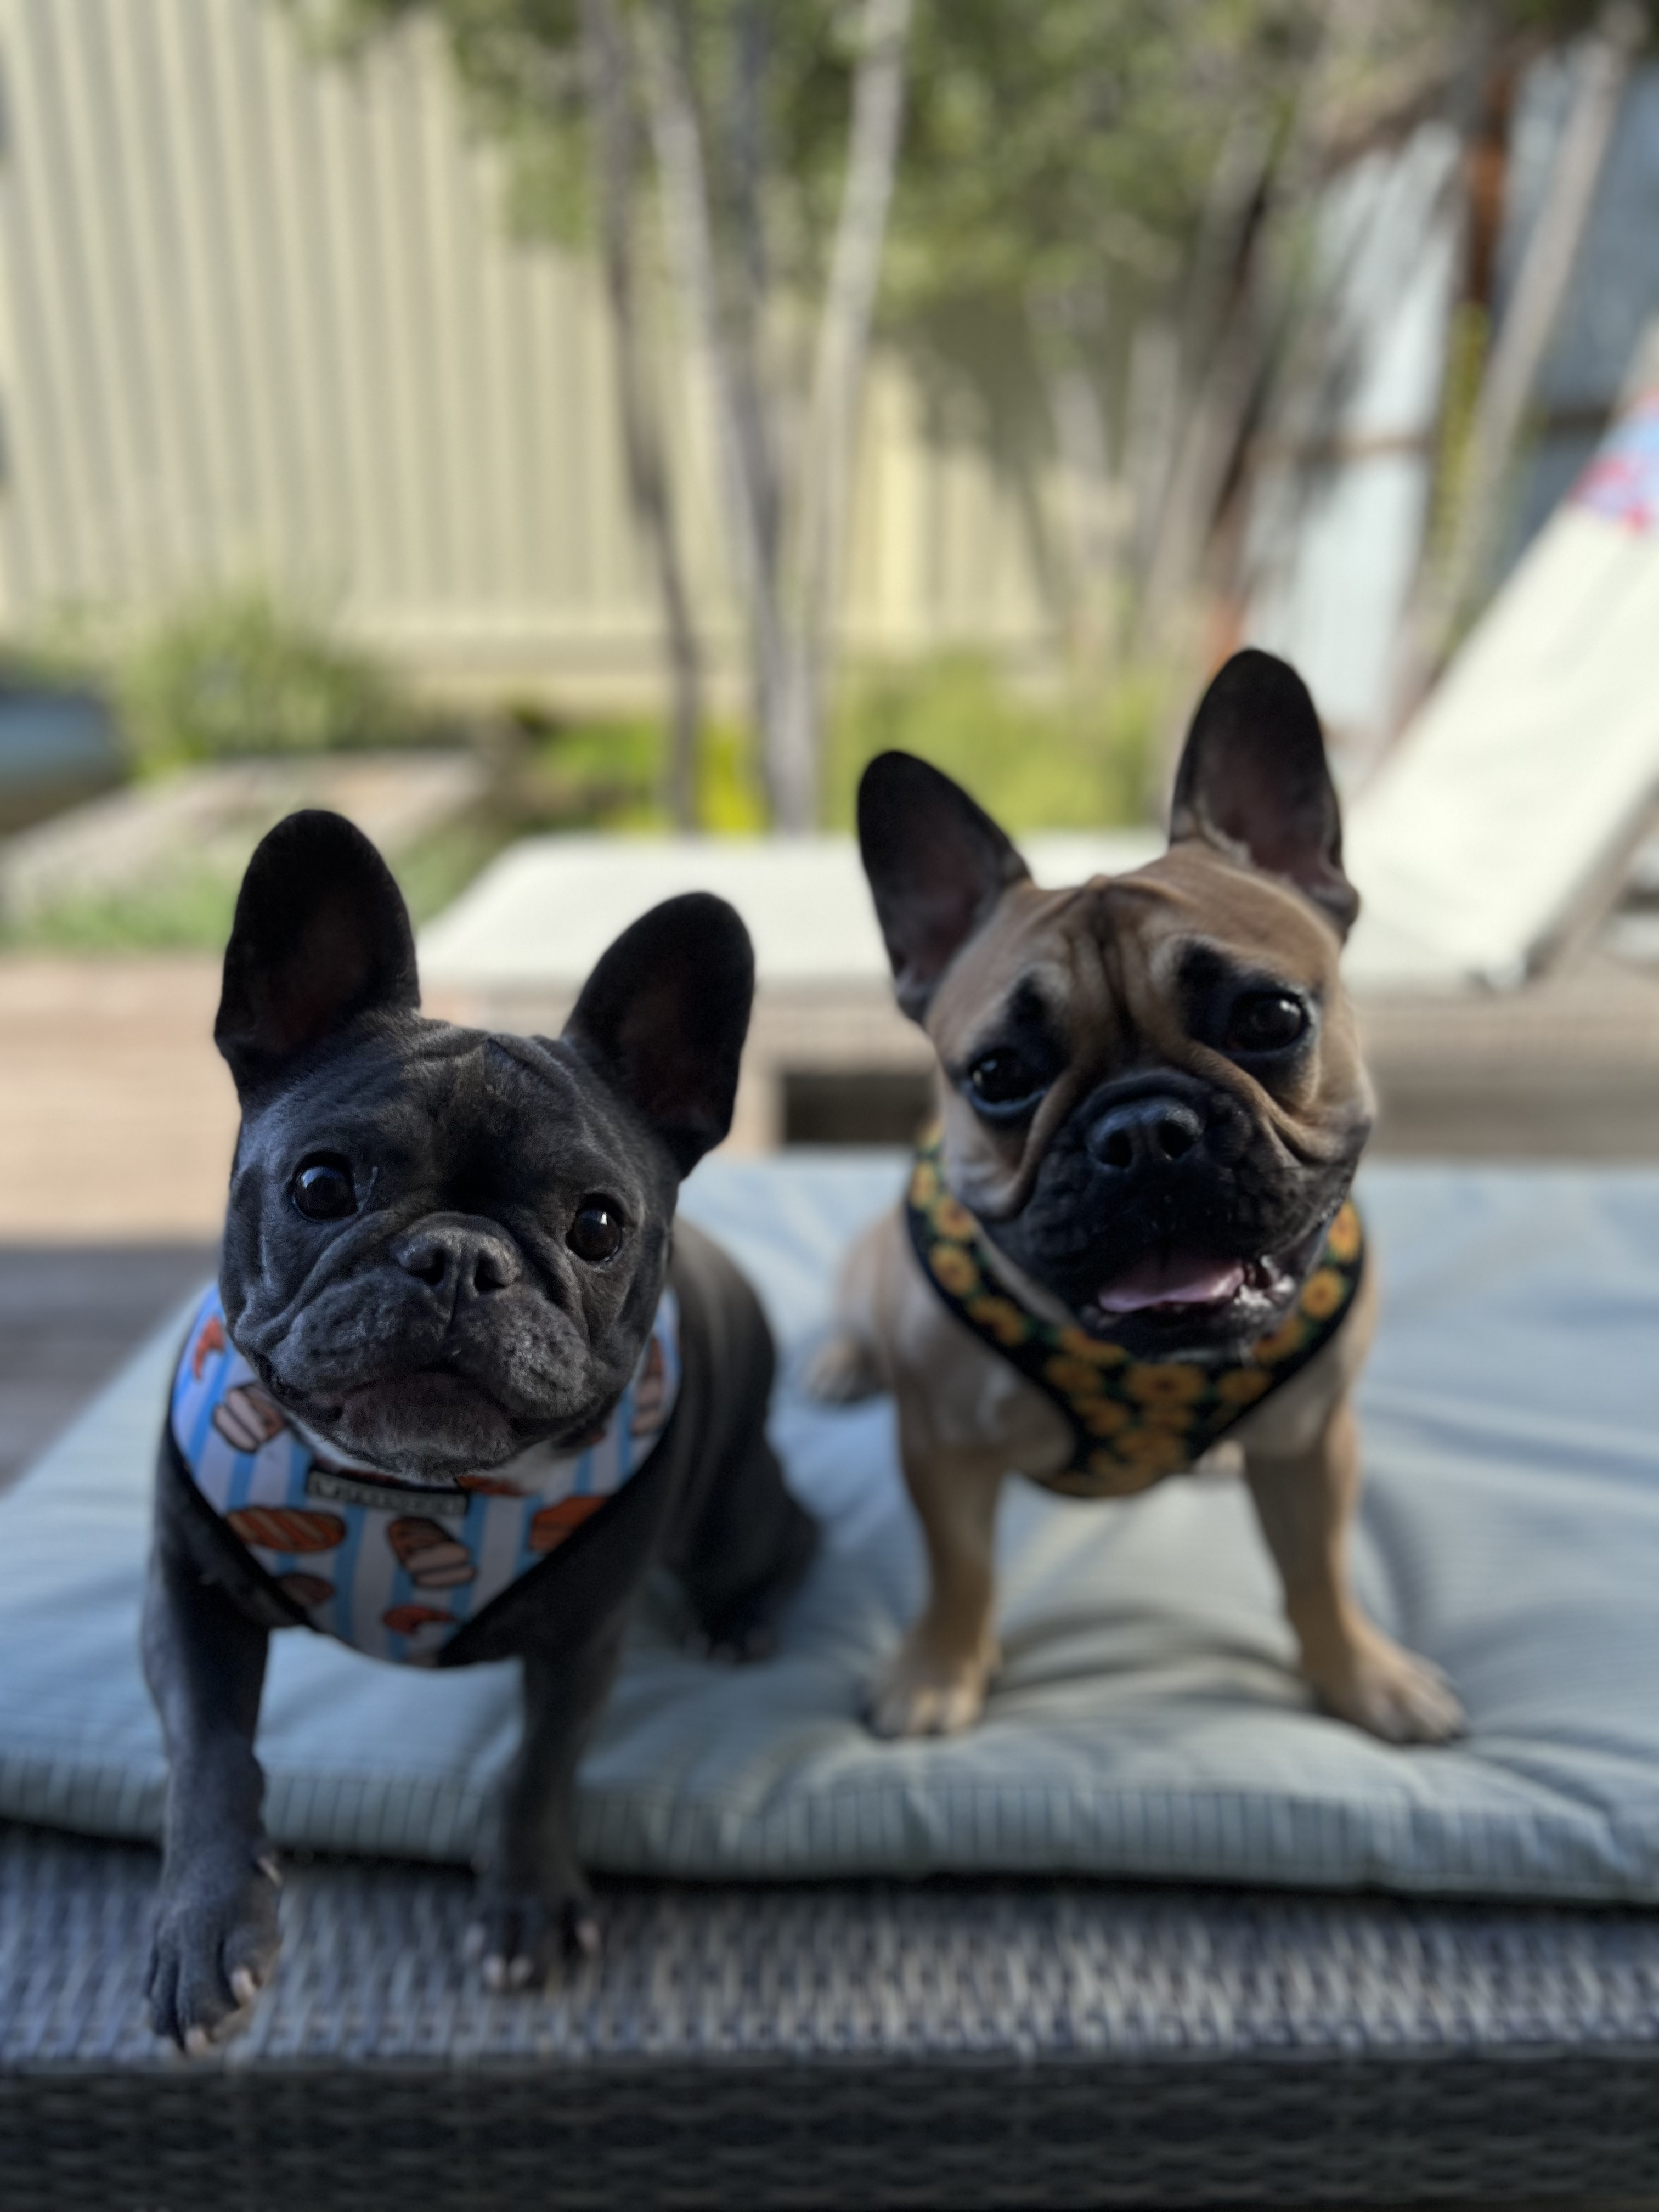lucy: (131, 805, 816, 2071)
